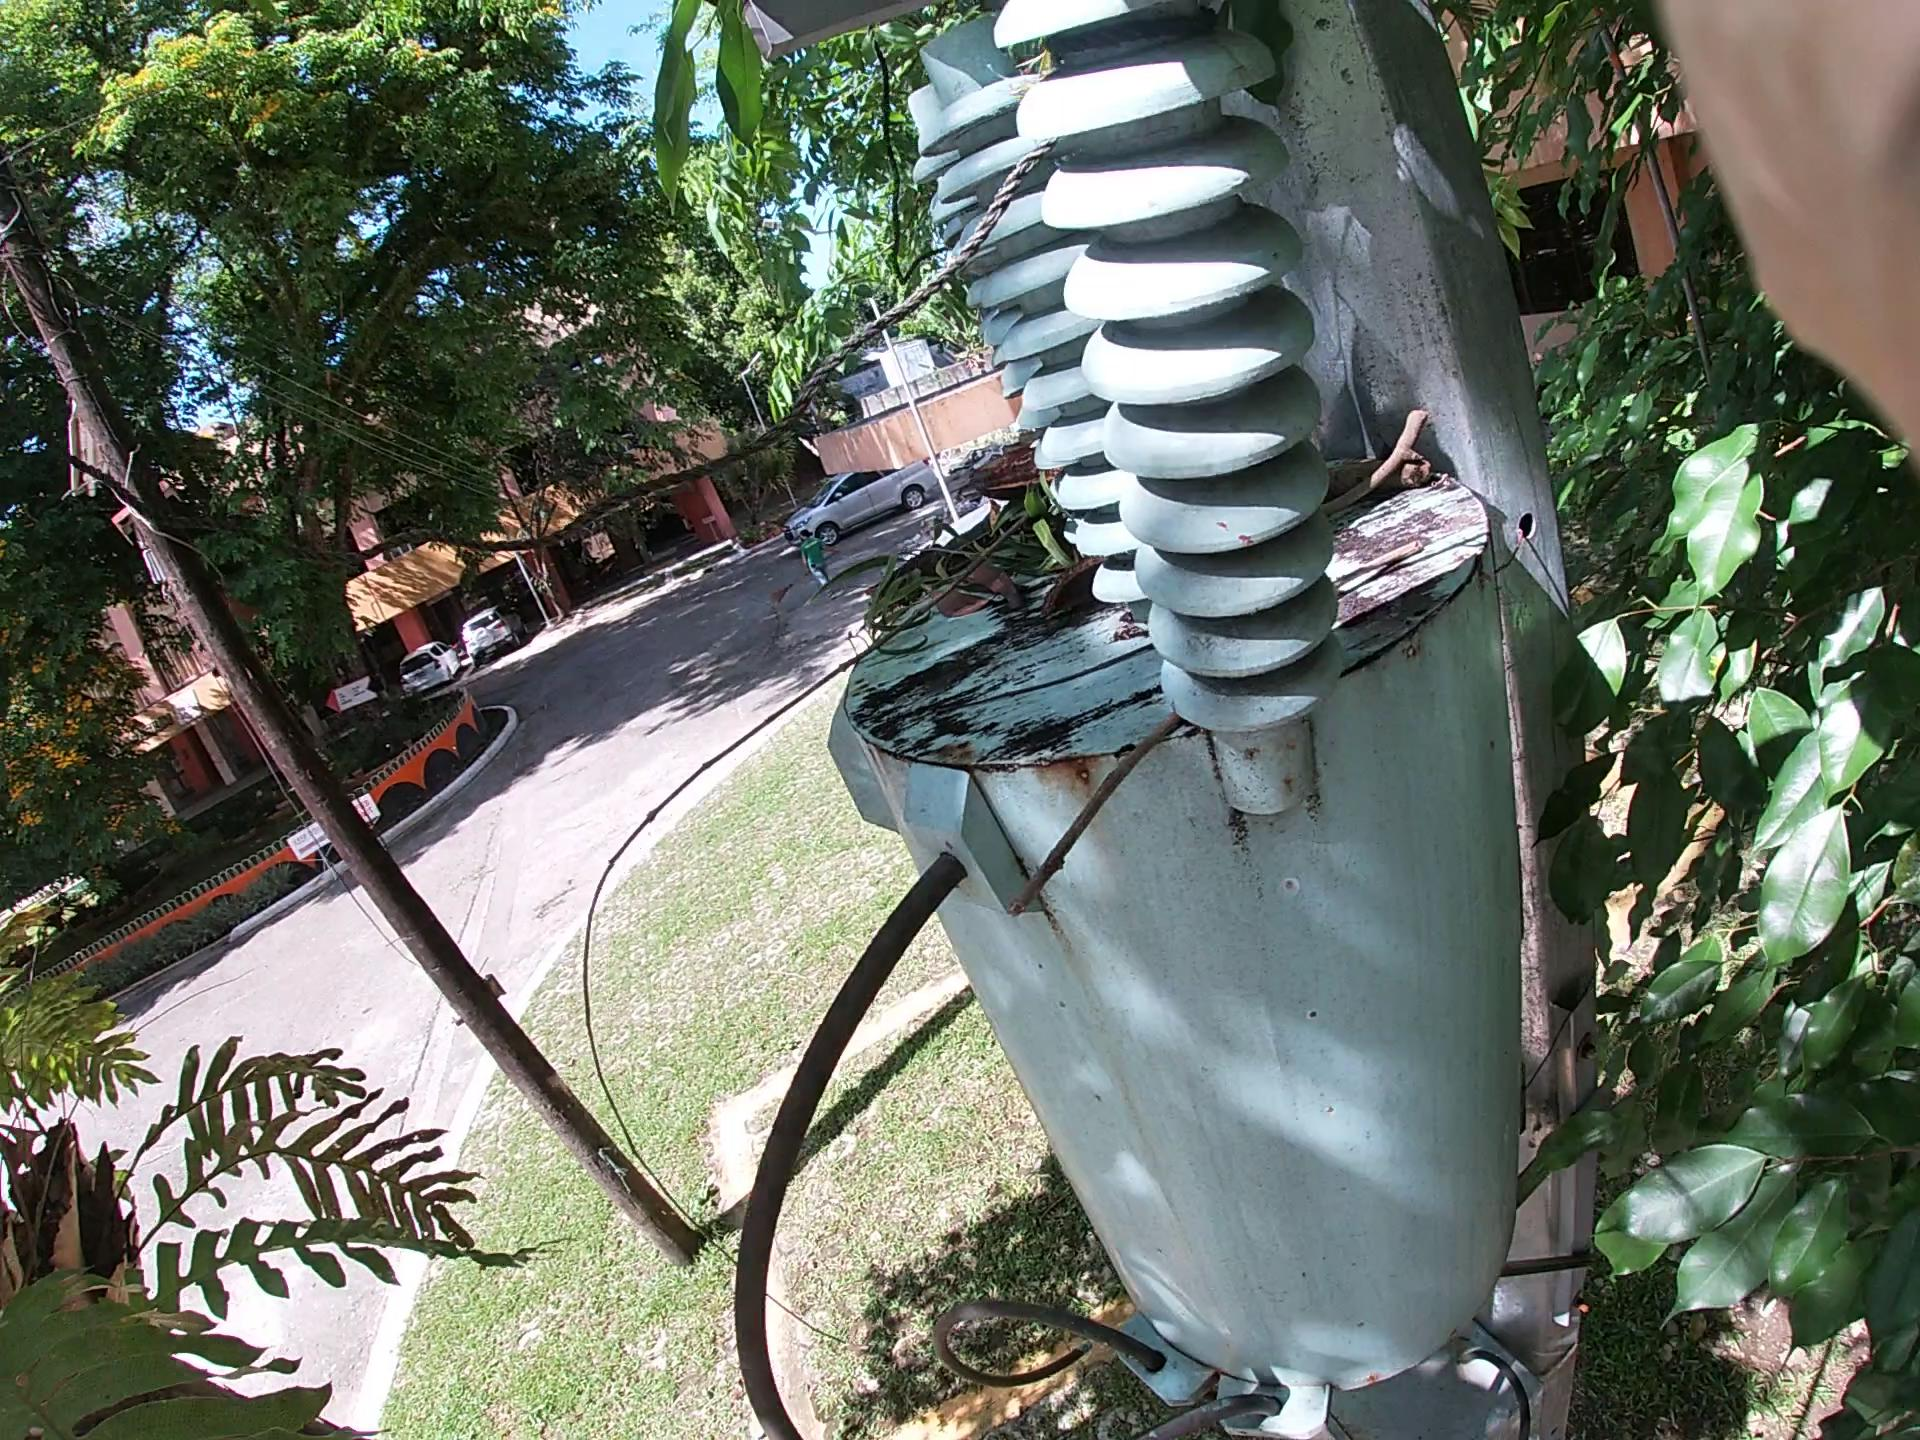branch with leaves: (848, 421, 1199, 731)
leaf: (931, 504, 1123, 659)
mahogany fruit: (945, 424, 1185, 532), (1045, 529, 1179, 601)
tree branch: (571, 374, 1085, 1181), (1085, 575, 1358, 920), (1253, 271, 1492, 593)
